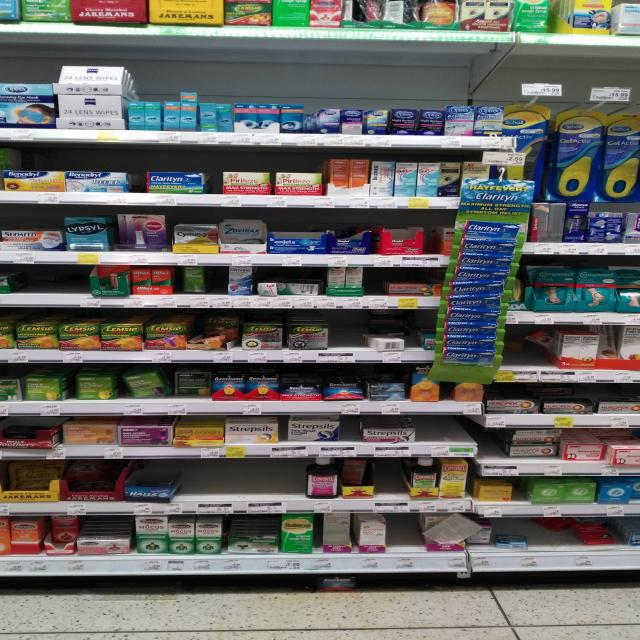void: (255, 459, 303, 513), (214, 459, 258, 513), (176, 460, 214, 512), (515, 330, 553, 381), (392, 515, 426, 571), (332, 318, 370, 363), (379, 458, 406, 513), (447, 417, 478, 456), (416, 416, 446, 456)
